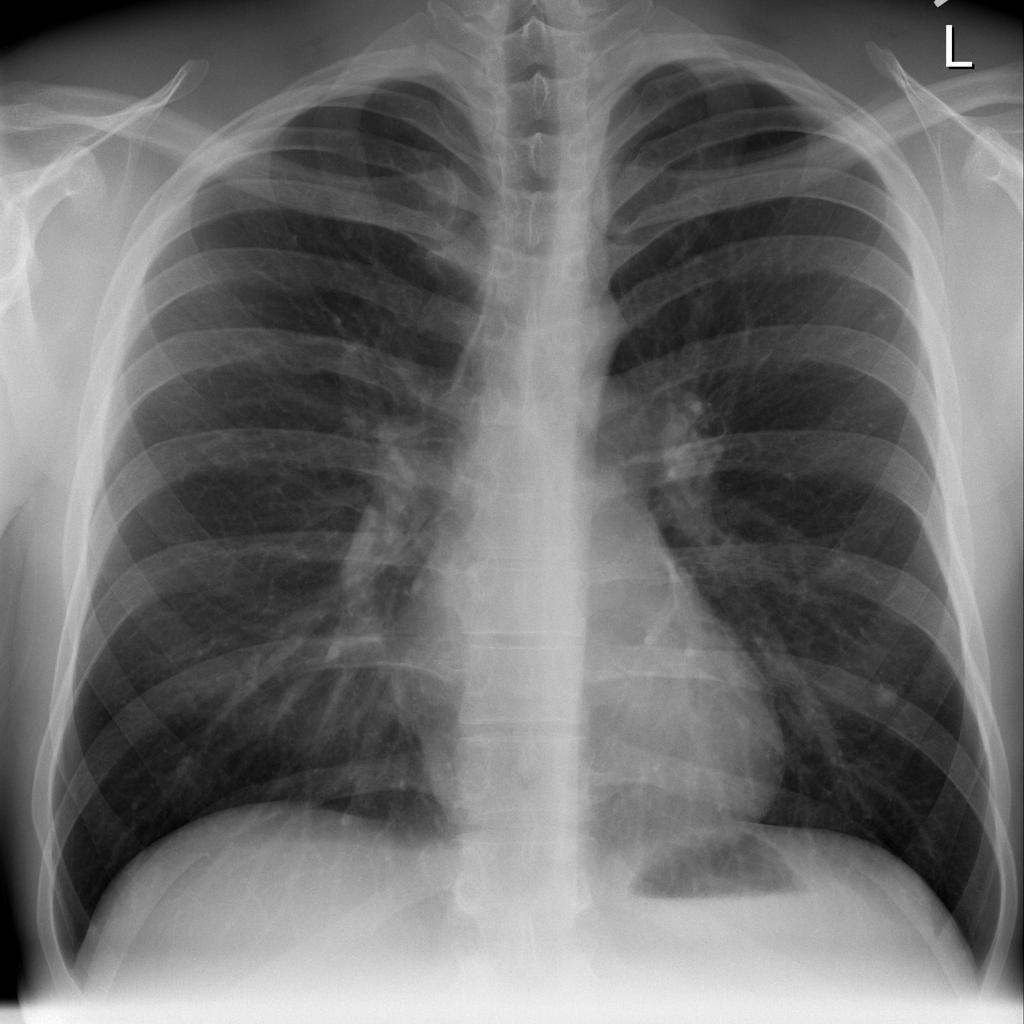nodule: (863, 668, 913, 719)
